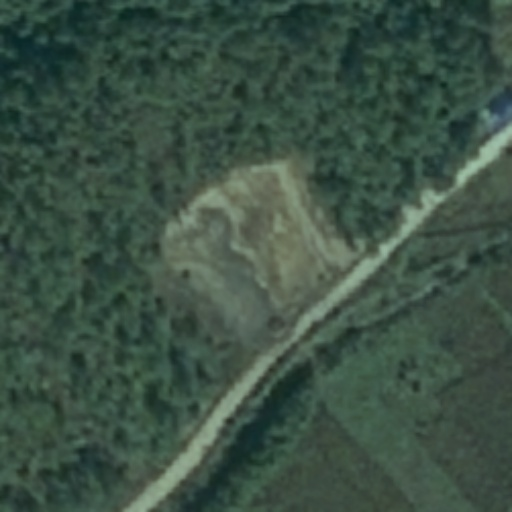landslide: (164, 158, 357, 318)
